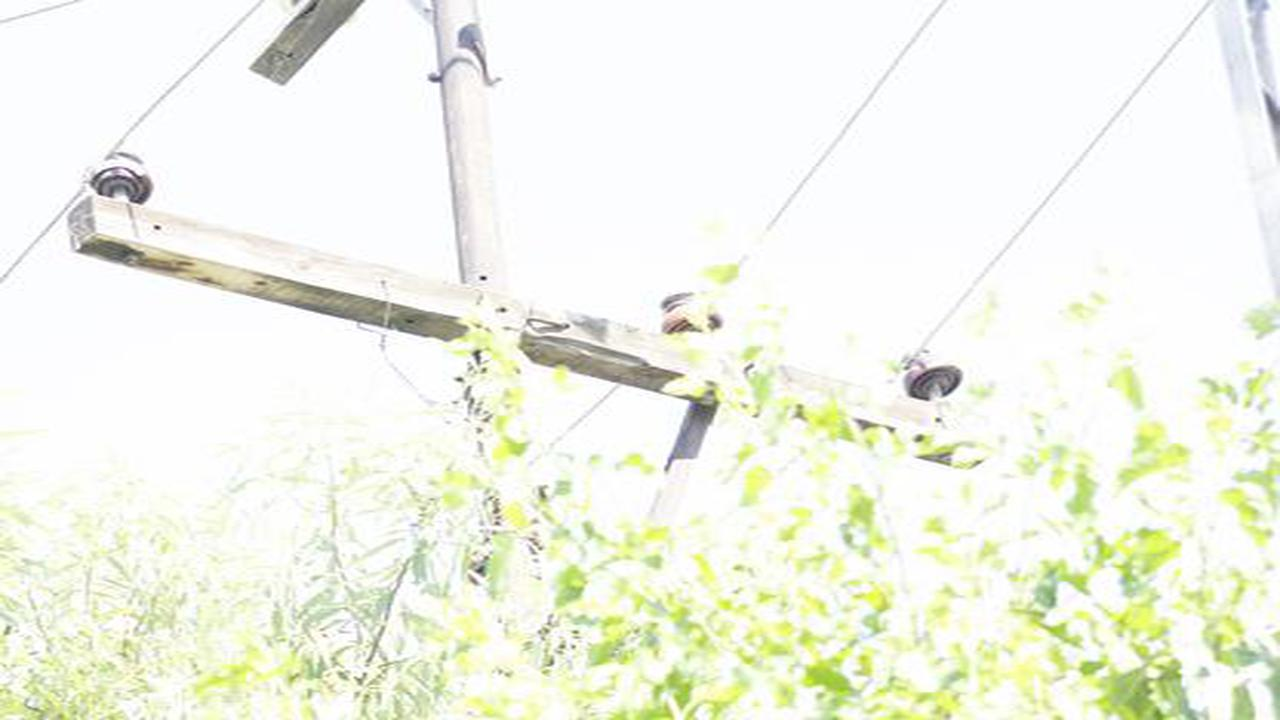defect_pin: (88, 145, 159, 205)
insulator_pin: (896, 343, 967, 409), (656, 289, 725, 343)
